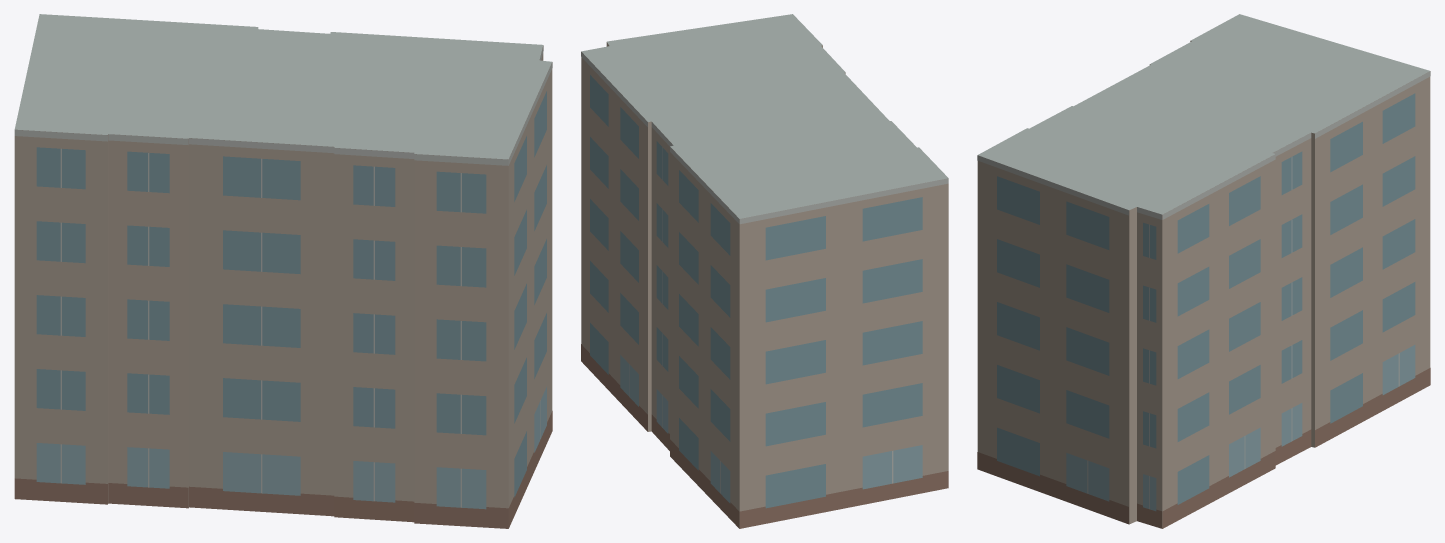
The model's file is survey-upis-32919723.glb.
3 views of the same model, side by side, from view 1: azimuth 30°, elevation 25°; view 2: azimuth 150°, elevation 25°; view 3: azimuth 270°, elevation 25° (orthographic). The views are drawn at different scales.
Parts seen in each view (by area): view 1: survey-upis-32919723.tmp; view 2: survey-upis-32919723.tmp; view 3: survey-upis-32919723.tmp.
Boxes of the visible parts, bbox=[...] form: survey-upis-32919723.tmp: bbox=[14, 14, 552, 528]; survey-upis-32919723.tmp: bbox=[581, 14, 948, 528]; survey-upis-32919723.tmp: bbox=[977, 14, 1430, 528].
Size of the model in its own units: 19.32 by 14.1 by 18.43.
